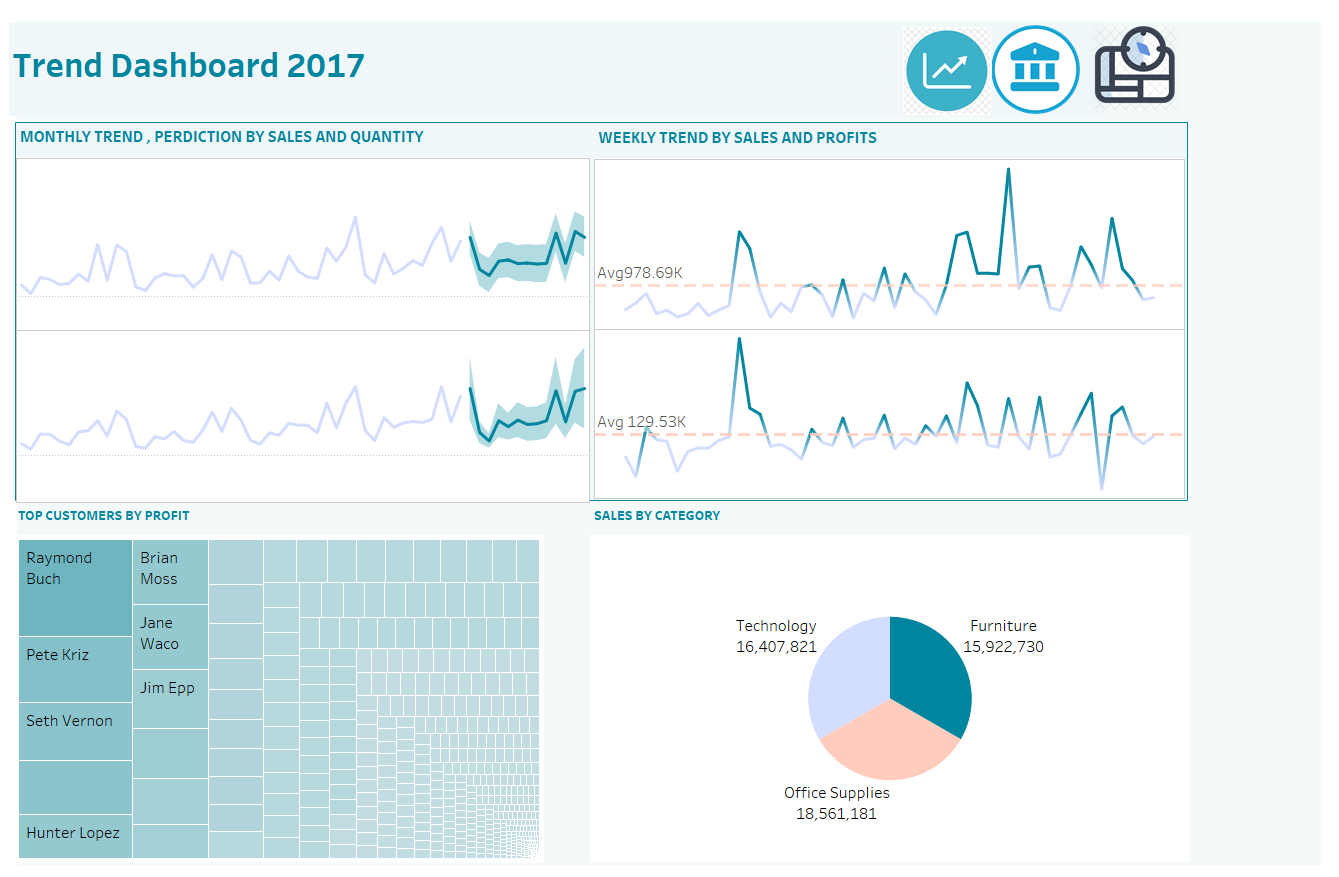

Layout of this report page (visuals, bound fields, positions):
{"tool":"tableau","page":{"name":"Trend Dashboard","canvas":[1000,1000],"units":"permille","ordinal":1},"visuals":[{"type":"dashboard-object","box":[816.7,11.2,72.7,106]},{"type":"dashboard-object","box":[736.4,12.5,82.6,106]},{"type":"text","box":[0,13.7,440.9,89.8]},{"type":"dashboard-object","box":[675,15,69.7,103.5]},{"type":"worksheet","title":"trend,perdiction","mark":"Automatic","rows":["Sales","Quantity"],"cols":["Order Date"],"box":[5.3,127.2,434.9,442.6]},{"type":"worksheet","title":"weekly trend","mark":"Automatic","rows":["Calculation_2301057940116705316","Calculation_2301057940073836550"],"cols":["Order Date"],"box":[443.2,128.4,447.7,437.7]},{"type":"blank","box":[3.8,563.6,446.2,425.2]},{"type":"blank","box":[5.3,566.1,477.3,422.7]},{"type":"worksheet","title":"TOP Customers by profit","mark":"Automatic","box":[3.8,568.6,443.9,420.2]},{"type":"worksheet","title":"Sales by category","mark":"Pie","box":[440.2,568.6,454.6,418.9]}]}

Visuals, with their boxes on the dashboard's canvas, which has no fixed pixel size, in thousandths of its width and height (x1, y1, x2, y2). These are canvas units, not pixel positions in the 1339x877 screenshot, which may show the page scaled, cropped or inside an application window:
dashboard-object: rect(817, 11, 889, 117)
dashboard-object: rect(736, 12, 819, 118)
text: rect(0, 14, 441, 104)
dashboard-object: rect(675, 15, 745, 118)
"trend,perdiction" worksheet: rect(5, 127, 440, 570)
"weekly trend" worksheet: rect(443, 128, 891, 566)
blank: rect(4, 564, 450, 989)
blank: rect(5, 566, 483, 989)
"TOP Customers by profit" worksheet: rect(4, 569, 448, 989)
"Sales by category" worksheet (Pie marks): rect(440, 569, 895, 988)
